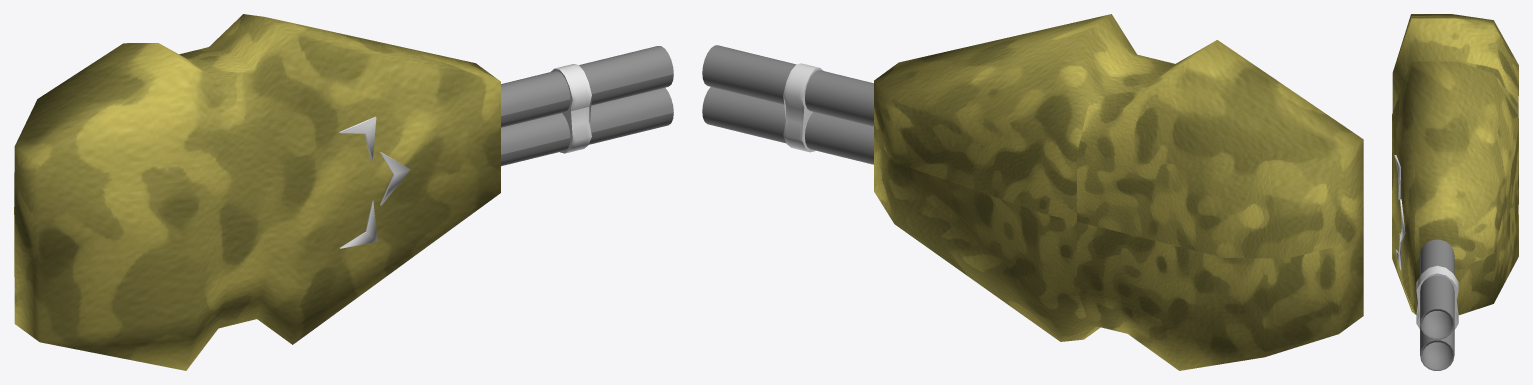
File: shotgun.fbx
3 renders of one model, left to right at view 1: azimuth 30°, elevation 25°; view 2: azimuth 150°, elevation 25°; view 3: azimuth 270°, elevation 25°, orthographic. The views are drawn at different scales.
Parts seen in each view (by area): view 1: Body0, Tube01_None, Color; view 2: Body0, Tube01_None, Color; view 3: Body0, Tube01_None, Color.
Boxes of the visible parts, x1,y1,x2,y2 form: Body0: (14, 14, 500, 370); Tube01_None: (501, 46, 673, 166); Color: (339, 64, 591, 248); Body0: (874, 14, 1363, 370); Tube01_None: (702, 45, 873, 164); Color: (783, 63, 823, 152); Body0: (1392, 14, 1518, 314); Tube01_None: (1420, 239, 1454, 370); Color: (1394, 155, 1458, 329).
Bounding box in the file's own units: 66.93 × 30.76 × 14.14.
2 materials, 2 textured.
